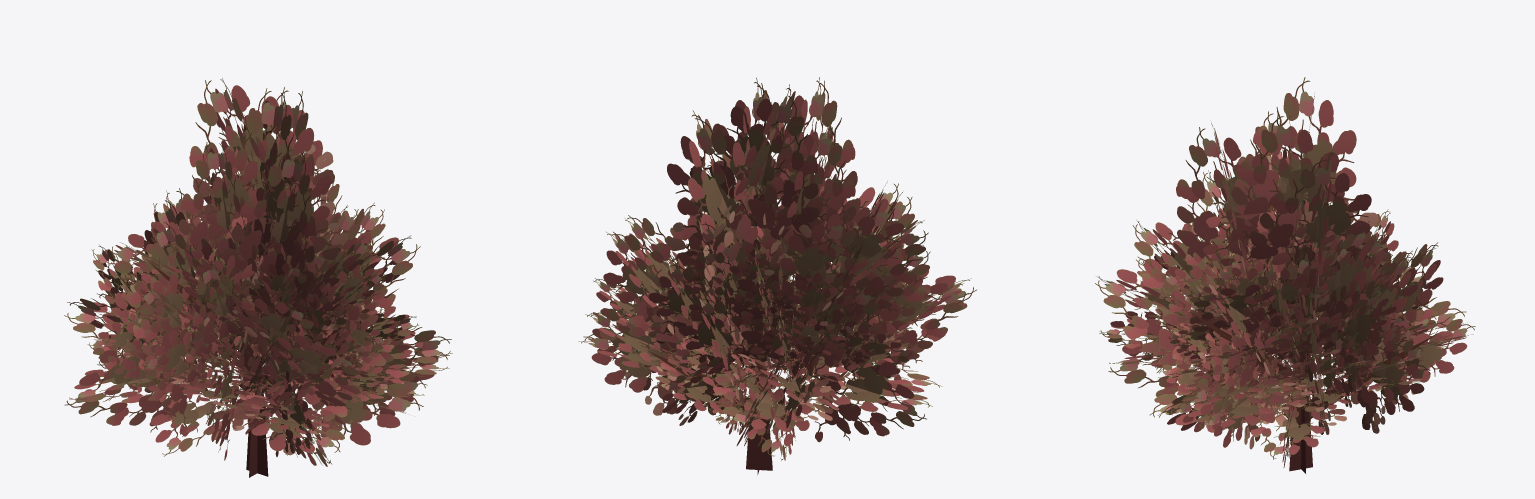
Rendered from Bush_8A.fbx.
The picture shows the model from 3 angles, left to right: view 1: azimuth 30°, elevation 25°; view 2: azimuth 150°, elevation 25°; view 3: azimuth 270°, elevation 25°; orthographic projection. The views are drawn at different scales.
Parts seen in each view (by area): view 1: Bush_8A; view 2: Bush_8A; view 3: Bush_8A.
Part boxes in pixels (x1=…): Bush_8A: x1=64, y1=78, x2=452, y2=477; Bush_8A: x1=578, y1=77, x2=976, y2=474; Bush_8A: x1=1095, y1=77, x2=1475, y2=473.
Size of the model in its own units: 249 by 266 by 261.
